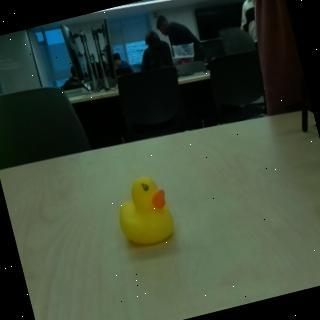duck_regular: (109, 171, 181, 254)
